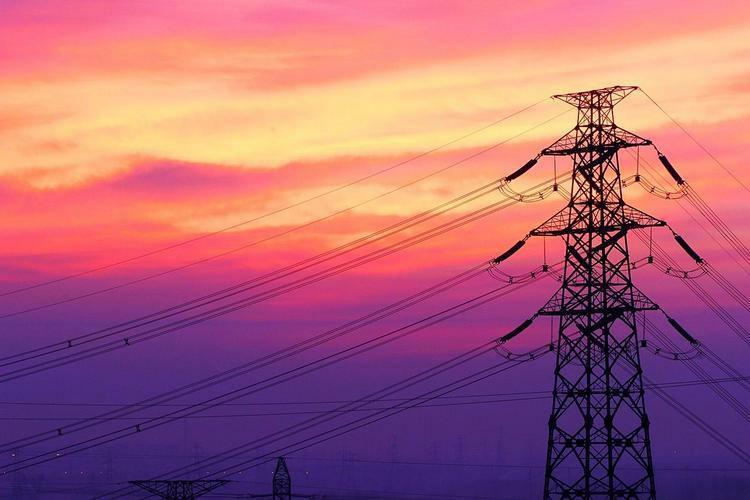power_tower: (476, 71, 690, 500)
